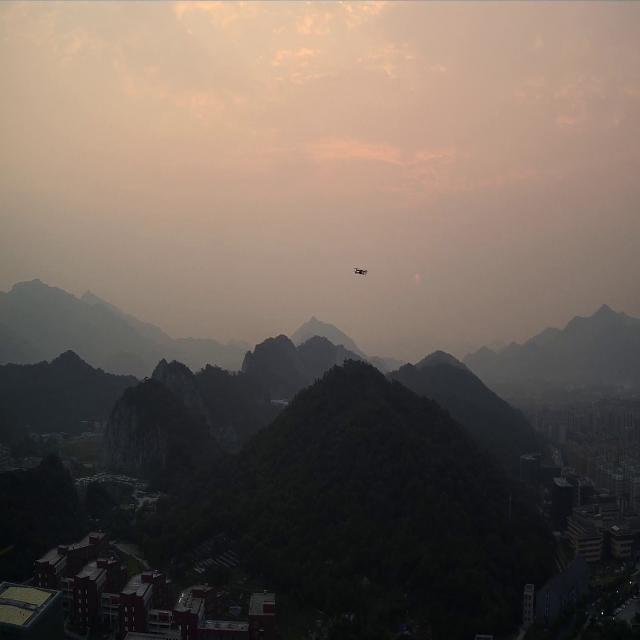drone: (353, 268, 368, 275)
